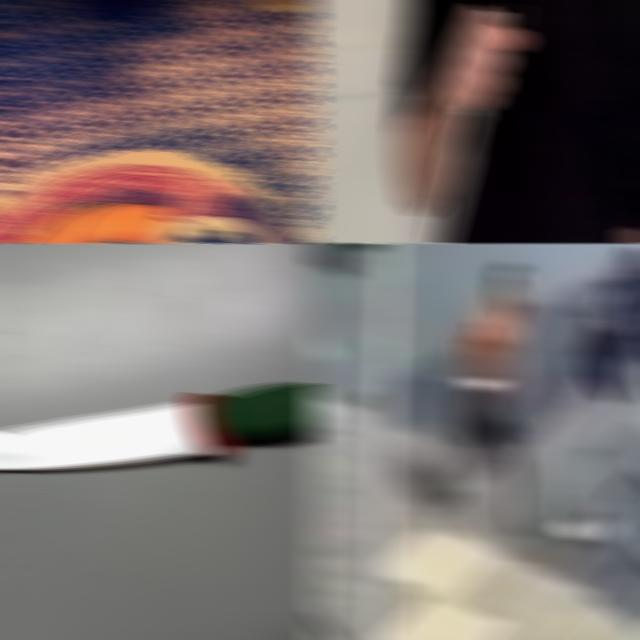Knife: (0, 382, 320, 470)
Knife_Handle: (421, 3, 528, 243), (456, 376, 506, 390), (462, 378, 507, 390)
